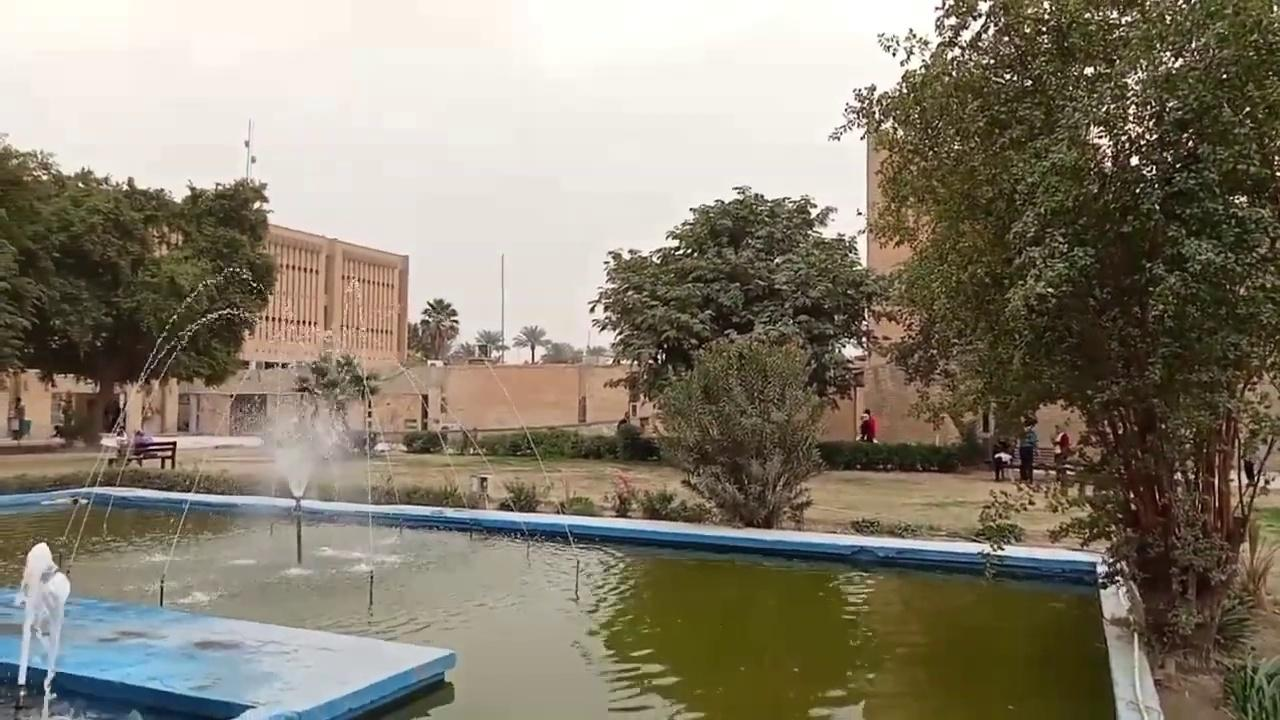fountain: (1, 266, 1162, 717), (4, 262, 457, 717)
person: (1018, 415, 1039, 482), (1050, 424, 1070, 482), (992, 440, 1014, 481), (131, 429, 150, 467), (10, 396, 25, 443), (857, 408, 877, 443)
tree: (826, 0, 1279, 673), (0, 132, 278, 442), (587, 184, 889, 432), (650, 332, 828, 529), (294, 347, 378, 449), (307, 348, 365, 415), (417, 297, 459, 360), (511, 324, 549, 363), (473, 328, 506, 360), (406, 321, 422, 357)
